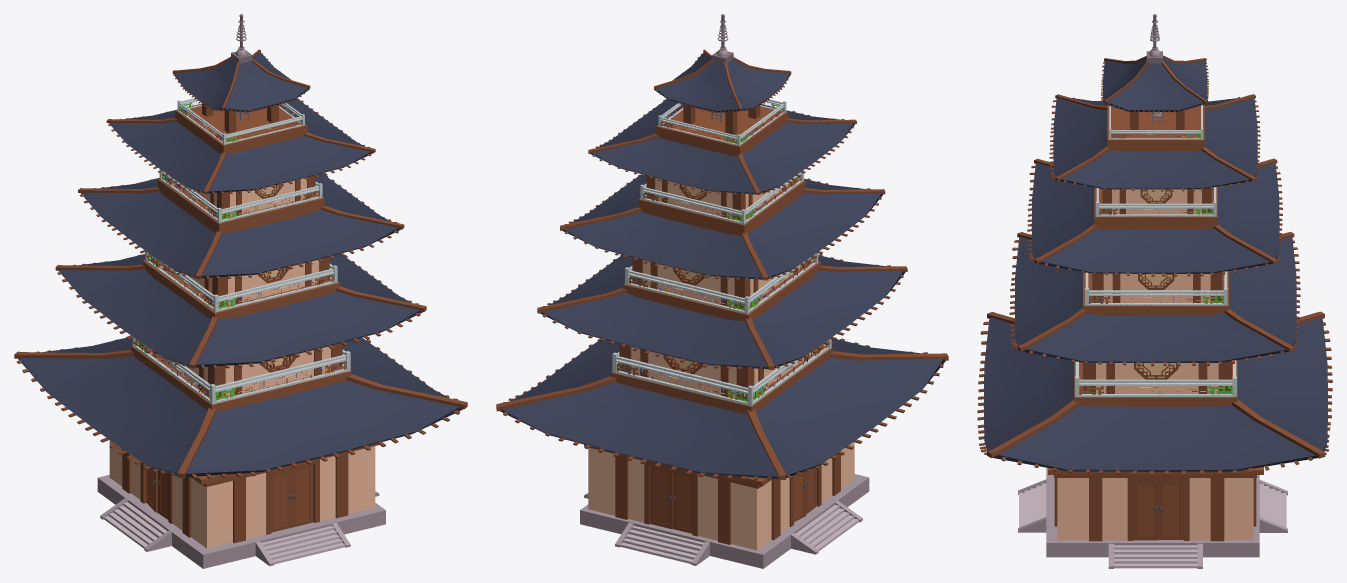
The model's file is houme010_1.fbx.
3 views of the same model, side by side, from view 1: azimuth 30°, elevation 25°; view 2: azimuth 150°, elevation 25°; view 3: azimuth 270°, elevation 25° (orthographic).
Parts seen in each view (by area): view 1: houme10_1, foundation_10_1_1, fence_10_1_1, fence_10_2_1, fence_10_3_1, fence_10_4_1; view 2: houme10_1, foundation_10_1_1, fence_10_1_1, fence_10_2_1, fence_10_3_1, fence_10_4_1; view 3: houme10_1, foundation_10_1_1, fence_10_1_1, fence_10_2_1, fence_10_3_1, fence_10_4_1, on_the_roof_10_1_1.
Boxes of the visible parts, x1,y1,x2,y2 form: houme10_1: [14, 49, 467, 548]; foundation_10_1_1: [97, 475, 385, 568]; fence_10_1_1: [132, 337, 350, 404]; fence_10_2_1: [145, 251, 337, 312]; fence_10_3_1: [159, 169, 322, 222]; fence_10_4_1: [177, 98, 304, 144]; houme10_1: [496, 49, 948, 550]; foundation_10_1_1: [580, 474, 869, 568]; fence_10_1_1: [612, 339, 831, 406]; fence_10_2_1: [625, 253, 818, 314]; fence_10_3_1: [640, 170, 803, 224]; fence_10_4_1: [658, 99, 786, 145]; houme10_1: [977, 55, 1332, 541]; foundation_10_1_1: [1018, 467, 1287, 568]; fence_10_1_1: [1075, 360, 1236, 397]; fence_10_2_1: [1085, 271, 1227, 305]; fence_10_3_1: [1096, 187, 1216, 216]; fence_10_4_1: [1109, 105, 1203, 139]; on_the_roof_10_1_1: [1146, 14, 1162, 63].
Size of the model in its own units: 2243 by 3475 by 2248.
